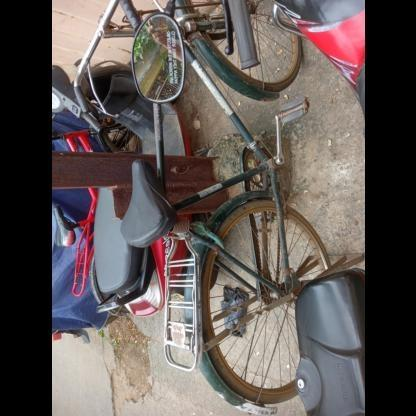Bicycle: (112, 0, 346, 415)
